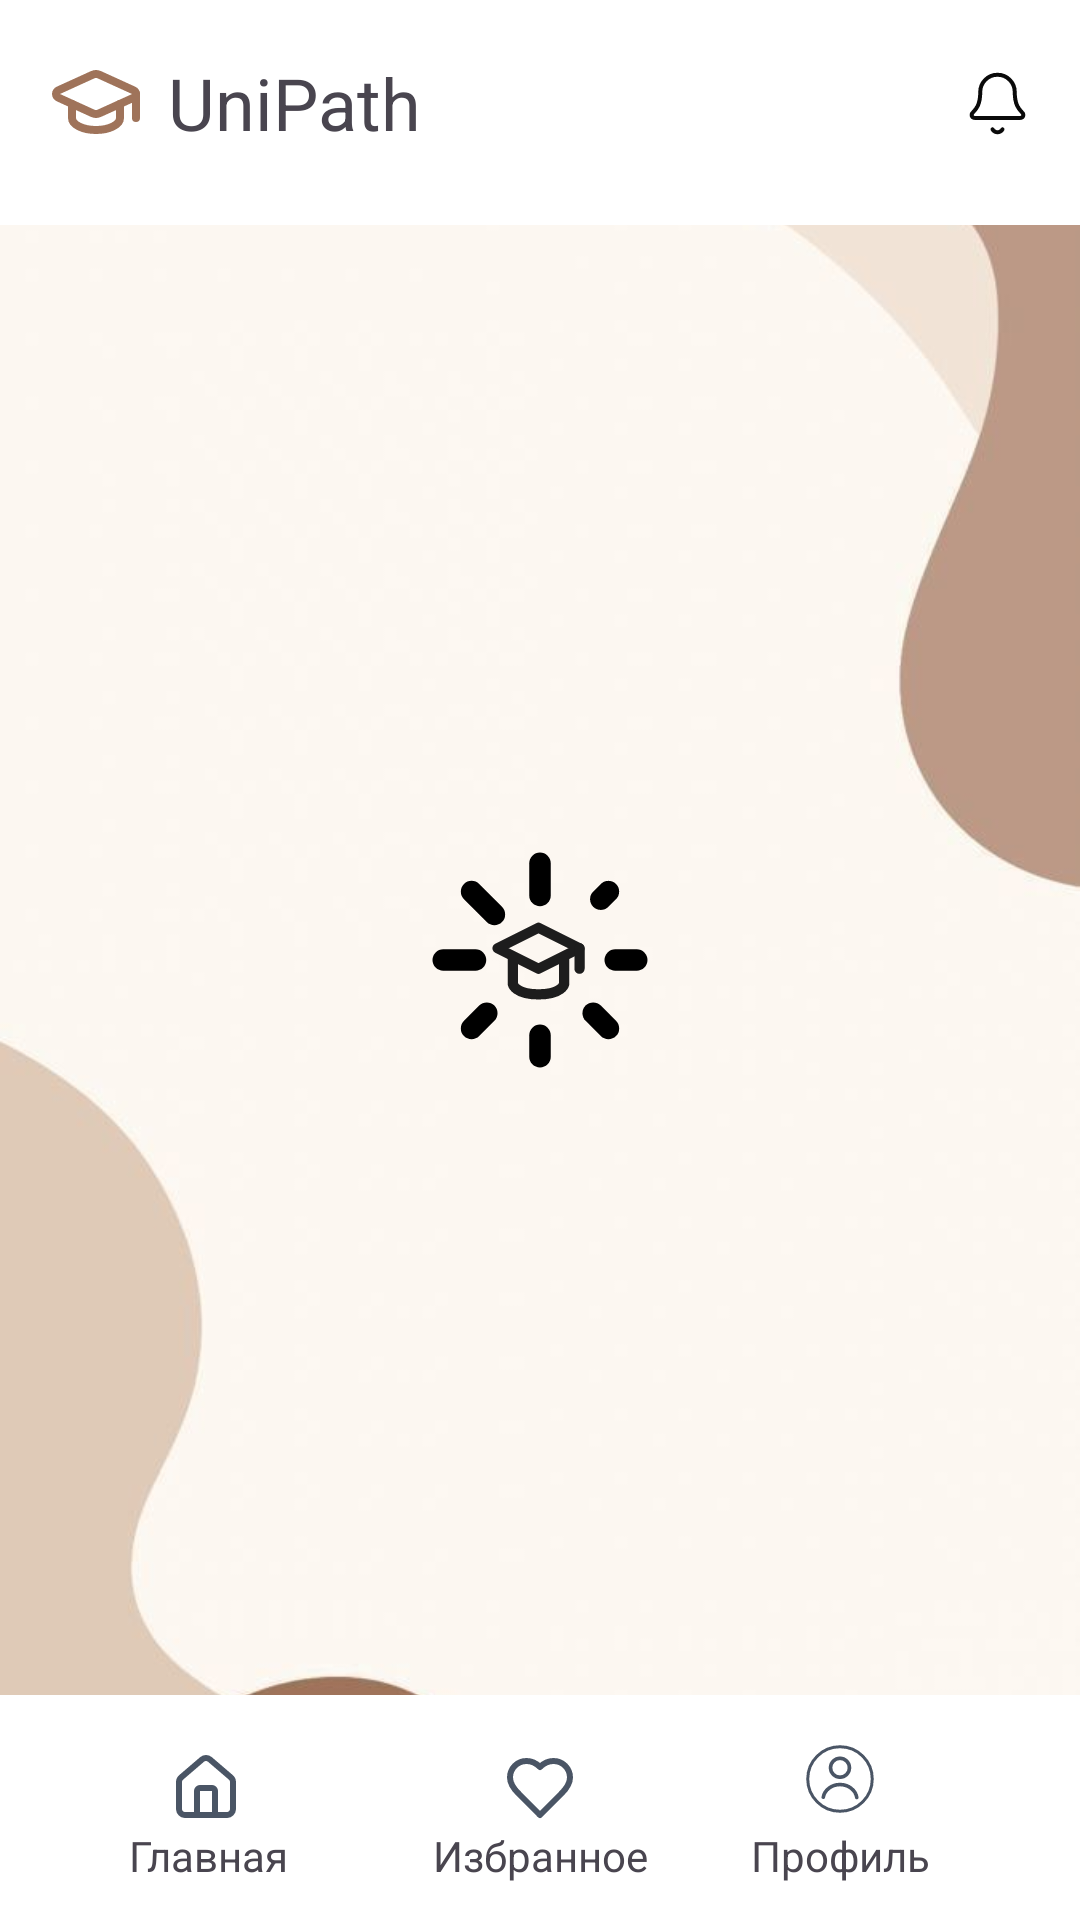

Locate icon controls on the screen. Image size 1080w x 1920h, boxes as box=[x1, y1, x2, y2].
loadinglt: box=[432, 852, 648, 1068]
notificationlt: box=[969, 72, 1026, 135]
